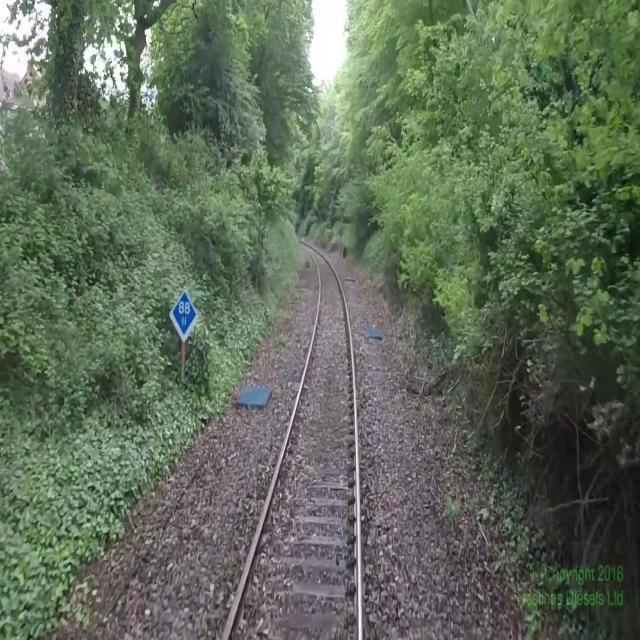rail-track: (227, 240, 357, 639)
